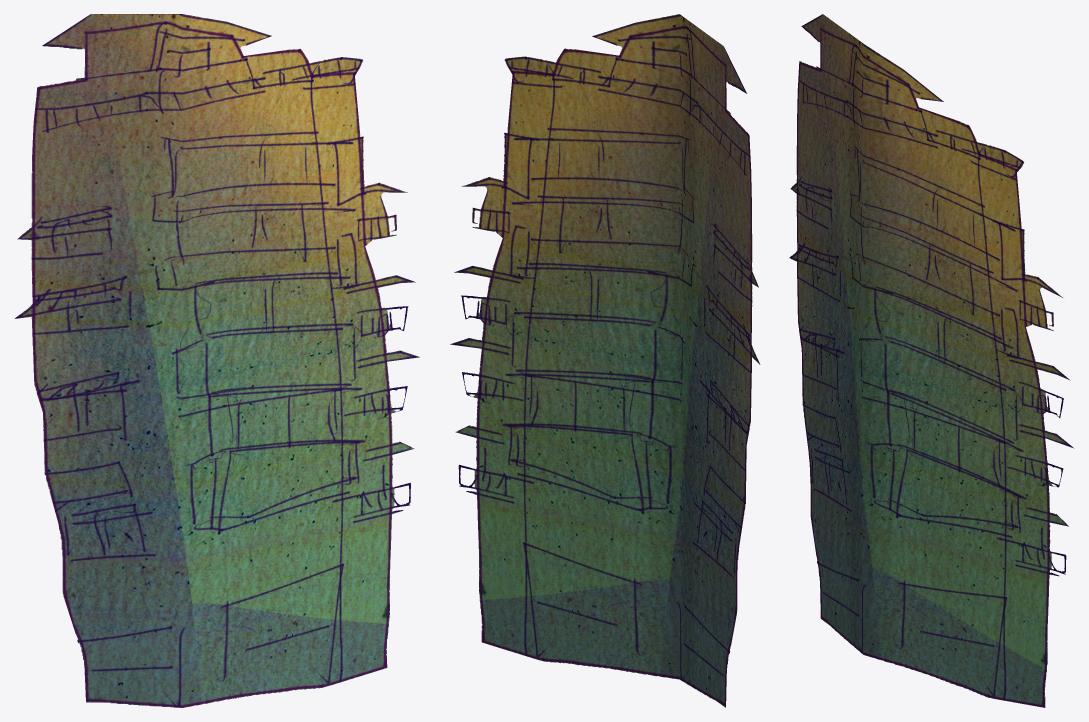
File: 03_mid_bld_03.fbx
The picture shows the model from 3 angles, left to right: view 1: azimuth 30°, elevation 25°; view 2: azimuth 150°, elevation 25°; view 3: azimuth 330°, elevation 25°; orthographic projection. The views are drawn at different scales.
Visible parts, largest first — view 1: 03_中_房子_03; view 2: 03_中_房子_03; view 3: 03_中_房子_03.
Boxes of the visible parts, x1=… form: 03_中_房子_03: x1=14, y1=14, x2=419, y2=707; 03_中_房子_03: x1=450, y1=14, x2=760, y2=707; 03_中_房子_03: x1=789, y1=14, x2=1074, y2=707.
Size of the model in its own units: 47.98 by 88.95 by 9.54.
Materials: 1 (1 with a texture image).
